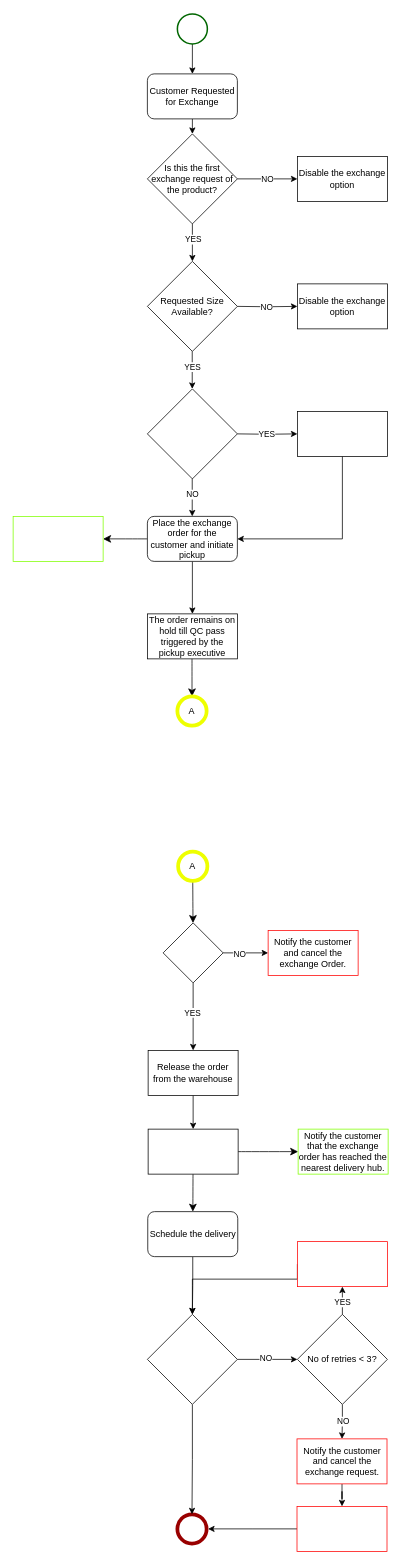
This 401x1565 diagram has some shape labels left out. The shapes that lost their labels are listed below. From the top down, each one's centre as x and y in pixels, then its label:
At point 192,433: "Has the price of the article changed?".
At point 342,433: "Honour the price that the customer paid earlier".
At point 57,538: "Notify the customer that the exchange order is placed along with EDD.".
At point 192,952: "QC Pass?".
At point 192,1151: "Wait for the item to reach the nearest delivery hub".
At point 342,1264: "Notify the customer and retry exchange the next day".
At point 192,1359: "Customer is available?".
At point 341,1528: "Initiate Refund".
